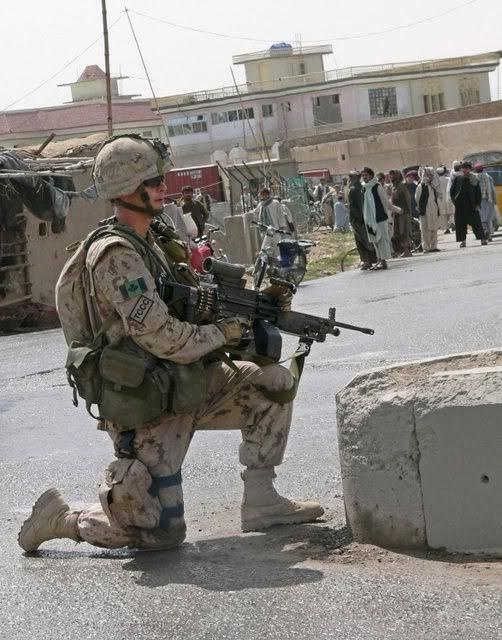non-vehicle: (248, 221, 314, 291), (182, 227, 229, 276)
